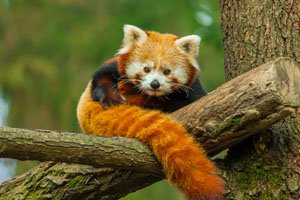red_panda: (79, 26, 227, 192)
